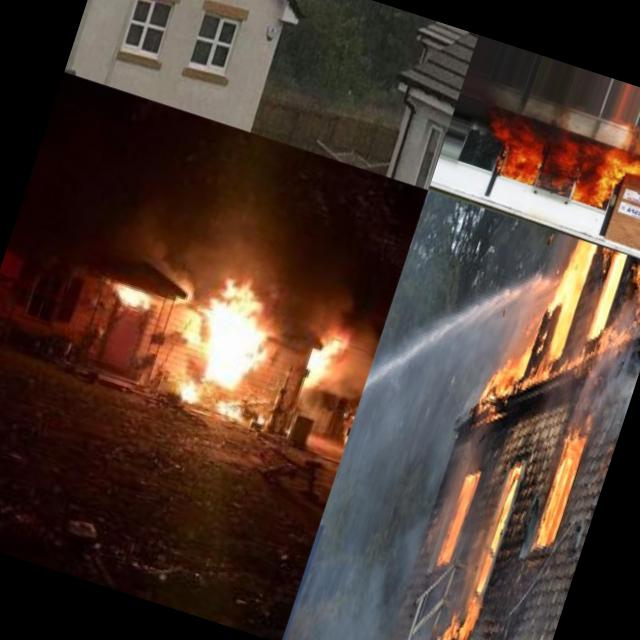fire: (164, 250, 308, 406), (522, 402, 598, 563), (529, 236, 599, 372), (540, 134, 633, 214), (474, 110, 554, 187), (562, 309, 635, 392), (163, 380, 259, 439), (482, 324, 544, 414), (294, 318, 356, 402), (433, 468, 484, 570), (31, 252, 97, 322), (416, 589, 487, 640), (620, 258, 640, 327), (609, 118, 640, 158), (628, 146, 640, 190)
smoke: (336, 371, 486, 564), (286, 527, 449, 640), (598, 352, 640, 427), (479, 84, 545, 130), (536, 99, 578, 144)
